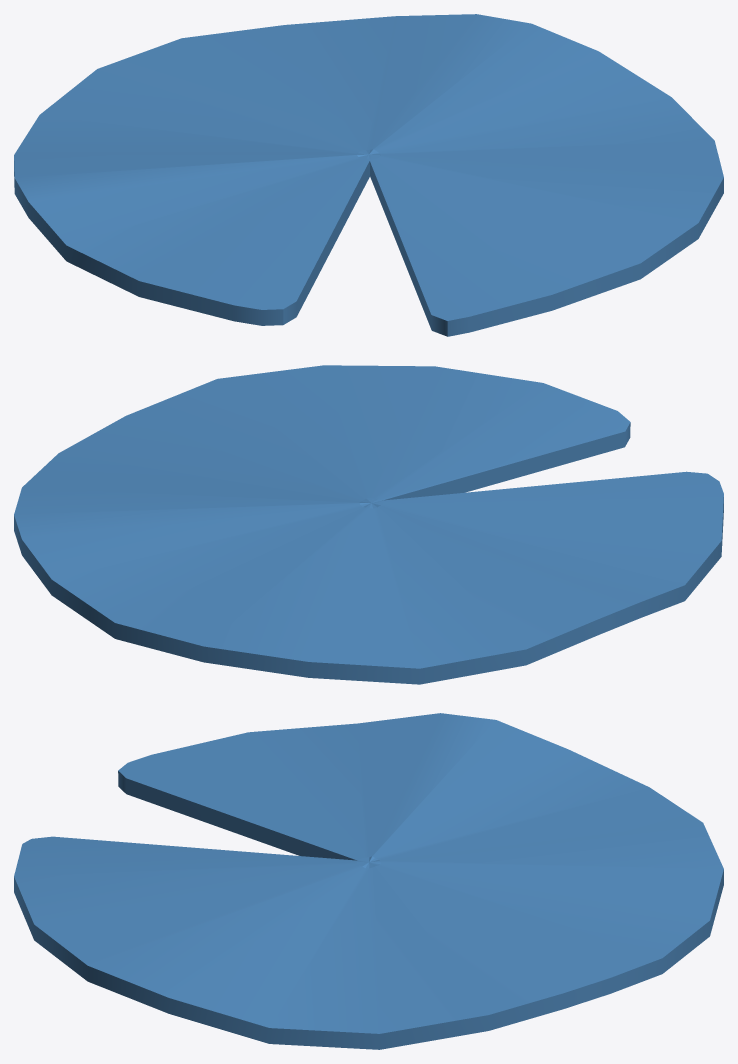
File: LilyPad_Dark.fbx
3 renders of one model, top to bottom at view 1: azimuth 30°, elevation 25°; view 2: azimuth 150°, elevation 25°; view 3: azimuth 270°, elevation 25°, orthographic.
Visible parts, largest first — view 1: LilyPad_Dark; view 2: LilyPad_Dark; view 3: LilyPad_Dark.
Part boxes in pixels (x1,y1,x2,y2): LilyPad_Dark: (14,14,723,336); LilyPad_Dark: (14,365,723,684); LilyPad_Dark: (14,713,723,1049).
Bounding box in the file's own units: 0.4812 × 0.0287 × 0.4808.
